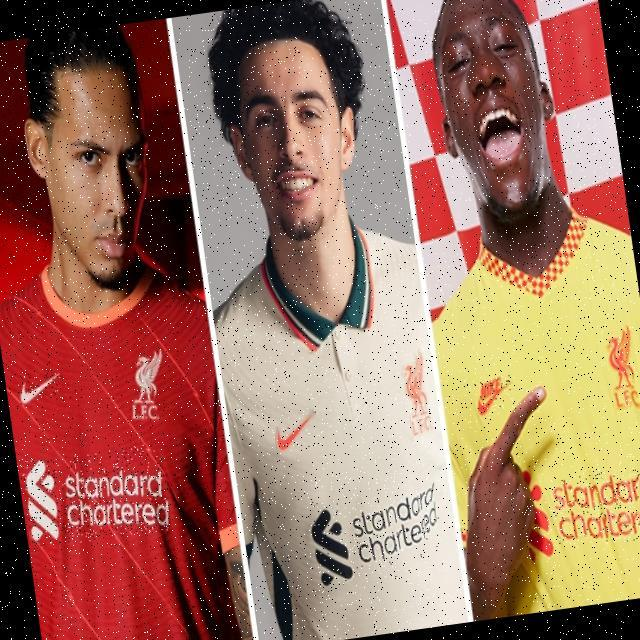Nike: (272, 410, 321, 455), (474, 375, 517, 416), (17, 371, 64, 405)
Standard Chartered: (21, 443, 173, 550), (307, 482, 446, 588), (551, 464, 640, 550)
